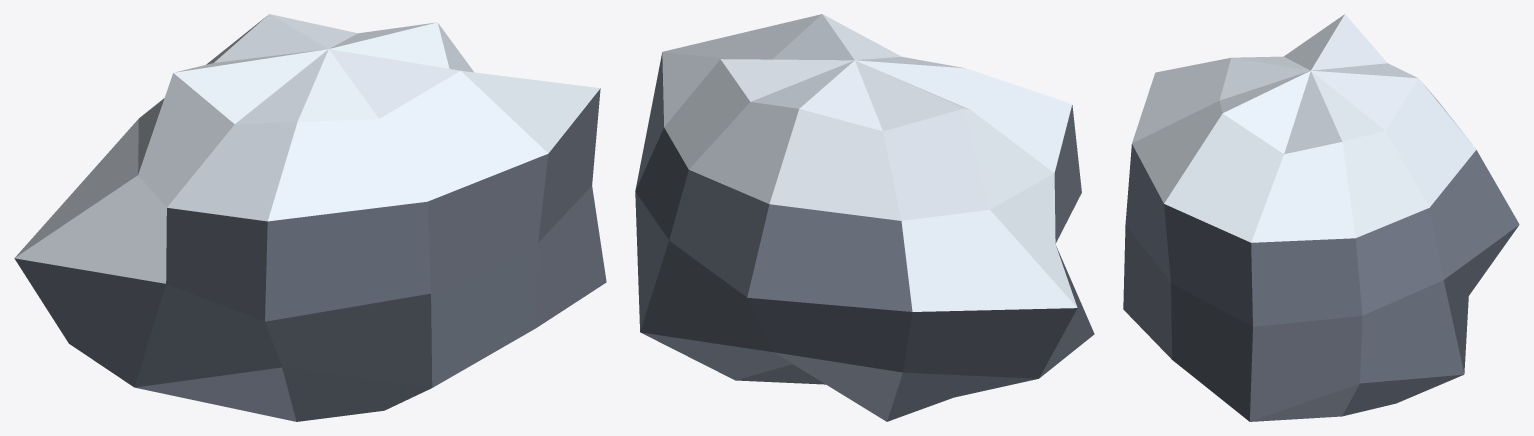
Rendered from Rock4.fbx.
3 views of the same model, side by side, from view 1: azimuth 30°, elevation 25°; view 2: azimuth 150°, elevation 25°; view 3: azimuth 270°, elevation 25° (orthographic). The views are drawn at different scales.
Visible parts, largest first — view 1: Rock; view 2: Rock; view 3: Rock.
Part boxes in pixels (x1,y1,x2,y2): Rock: [14, 14, 606, 421]; Rock: [635, 14, 1094, 421]; Rock: [1123, 14, 1519, 421].
Size of the model in its own units: 3.73 by 2.38 by 2.71.
